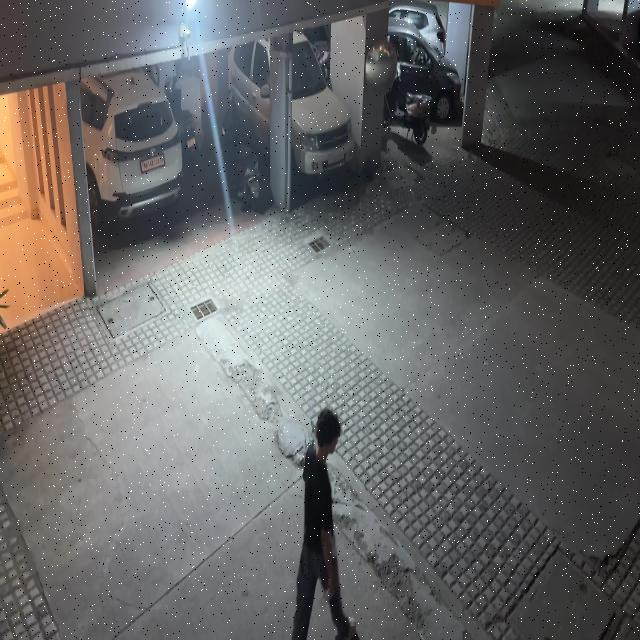human: (286, 402, 362, 640), (316, 575, 334, 614)
